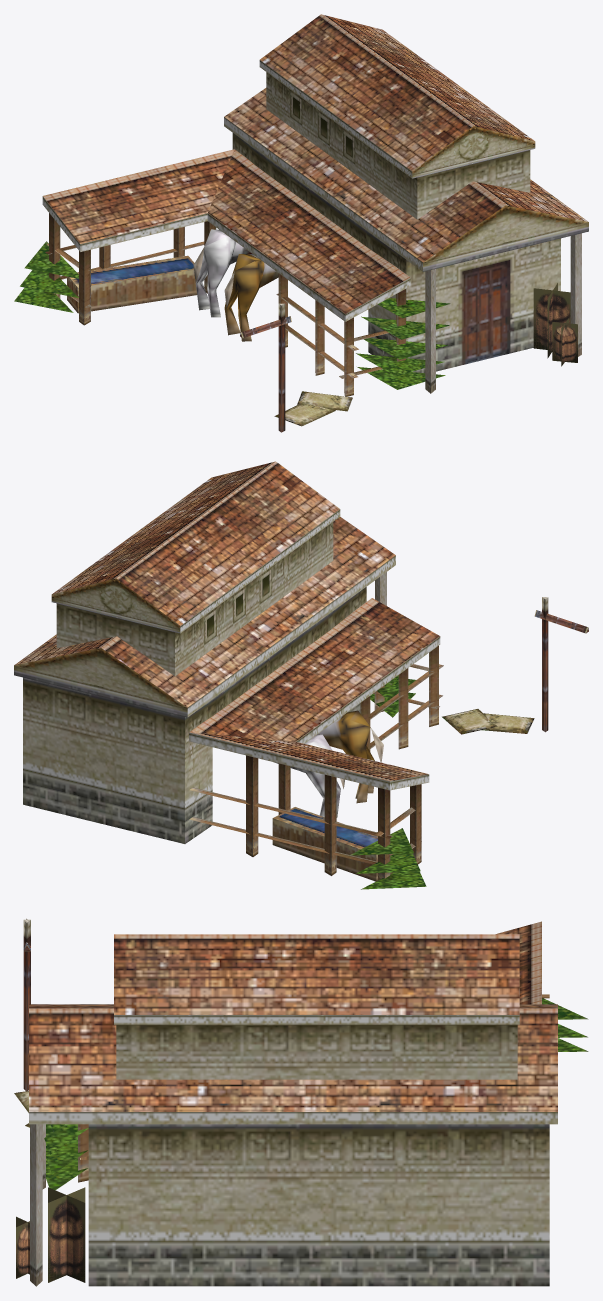
File: stable_base.glb
3 renders of one model, top to bottom at view 1: azimuth 30°, elevation 25°; view 2: azimuth 150°, elevation 25°; view 3: azimuth 270°, elevation 25°, orthographic. The views are drawn at different scales.
Parts seen in each view (by area): view 1: MeshRoot; view 2: MeshRoot; view 3: MeshRoot.
Boxes of the visible parts, x1,y1,x2,y2 form: MeshRoot: [14, 14, 588, 432]; MeshRoot: [14, 461, 588, 889]; MeshRoot: [14, 918, 588, 1286].
Bounding box in the file's own units: 8.67 × 4.89 × 8.44.
Materials: 3 (3 with a texture image).
